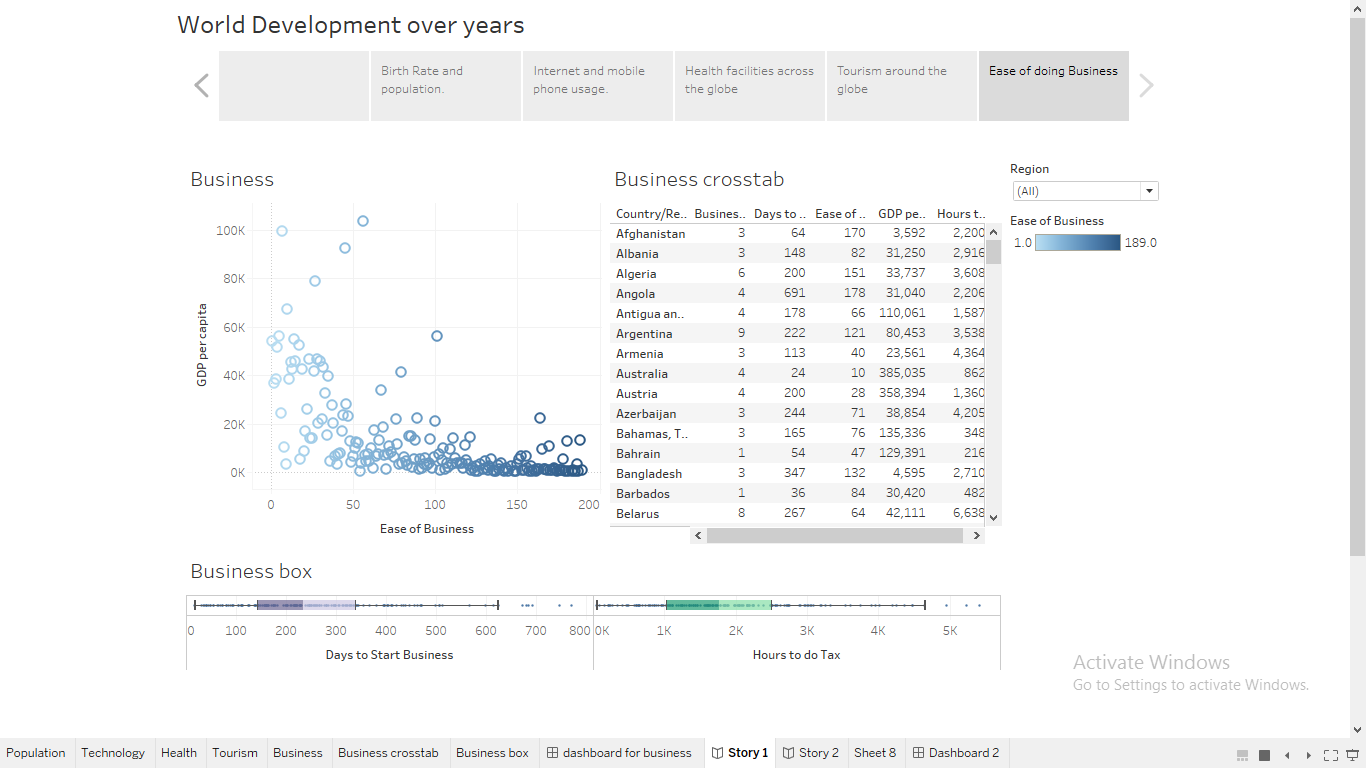

This screenshot's page, from the dashboard's own definition file:
{"tool":"tableau","page":{"name":"dashboard for business","canvas":[1000,800],"ordinal":1},"visuals":[{"type":"worksheet","title":"Business","mark":"Automatic","rows":["Calculation_1504483795464970240"],"cols":["Ease of Business"],"box":[8,8,424,392]},{"type":"worksheet","title":"Business crosstab","mark":"Automatic","rows":["Country/Region"],"box":[432,8,400,392]},{"type":"filter","title":"Business","param":"[World Indicators].[none:Region:nk]","box":[832,8,160,73]},{"type":"legend","title":"Business","param":"[World Indicators].[sum:Ease of Business:qk]","box":[832,81,160,22]},{"type":"worksheet","title":"Business box","mark":"Circle","cols":["Days to Start Business","Hours to do Tax"],"box":[8,400,824,392]}]}

Visuals, with their boxes on the page's 1000x800 design canvas (x1, y1, x2, y2). These are canvas units, not pixel positions in the 1366x768 screenshot, which may show the page scaled, cropped or inside an application window:
"Business" worksheet: x1=8 y1=8 x2=432 y2=400
"Business crosstab" worksheet: x1=432 y1=8 x2=832 y2=400
"Business" filter: x1=832 y1=8 x2=992 y2=81
"Business" legend: x1=832 y1=81 x2=992 y2=103
"Business box" worksheet (Circle marks): x1=8 y1=400 x2=832 y2=792
